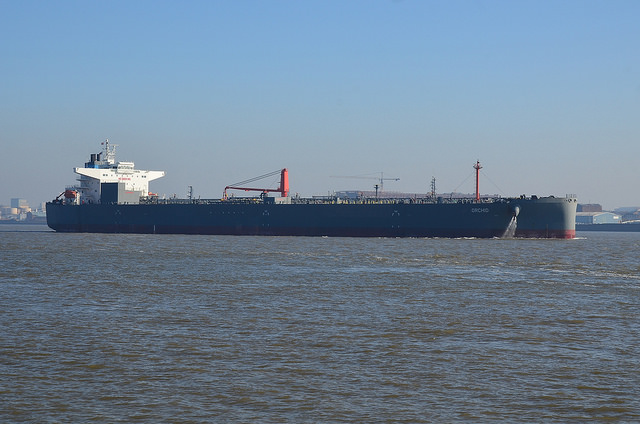tanker: (50, 139, 596, 241)
